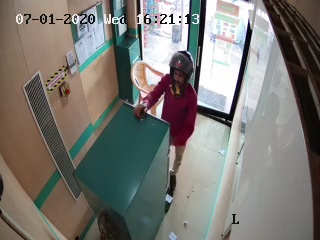helmet: (159, 52, 198, 90)
